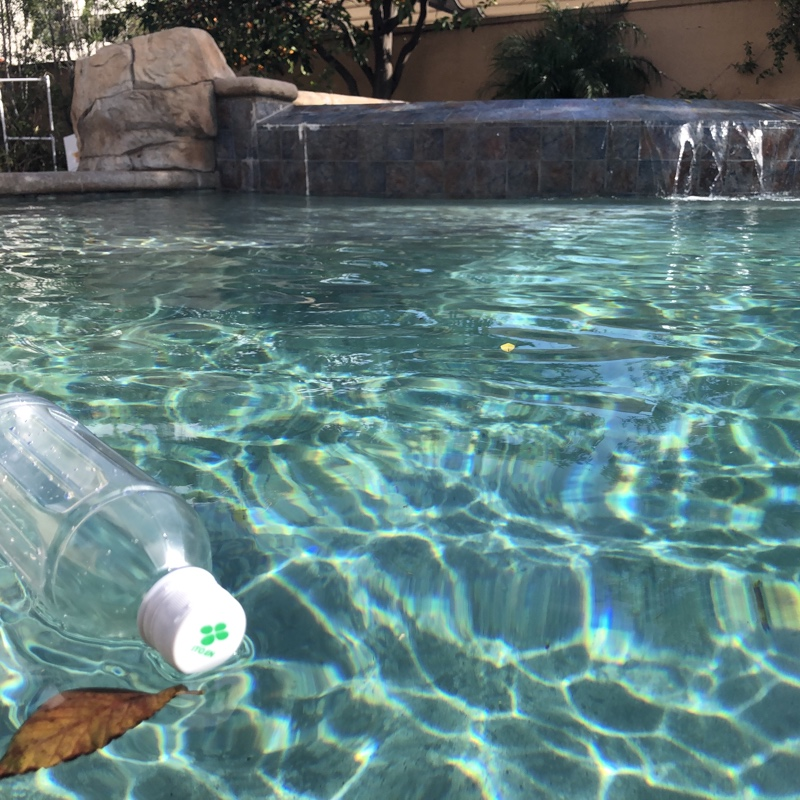Plastic Bottle: (1, 383, 249, 683)
